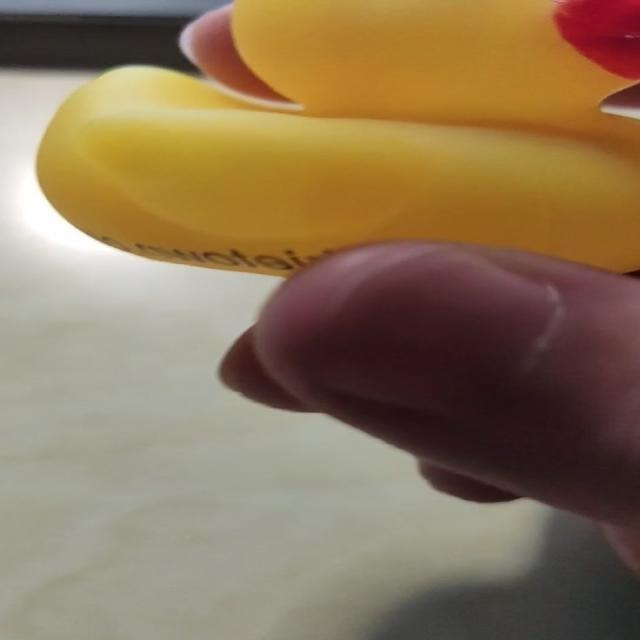rubber-duck: (36, 0, 638, 273)
